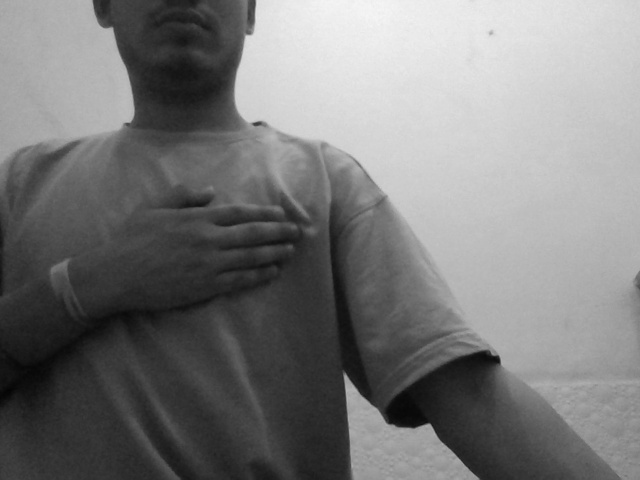Sorry: (87, 169, 331, 366)
